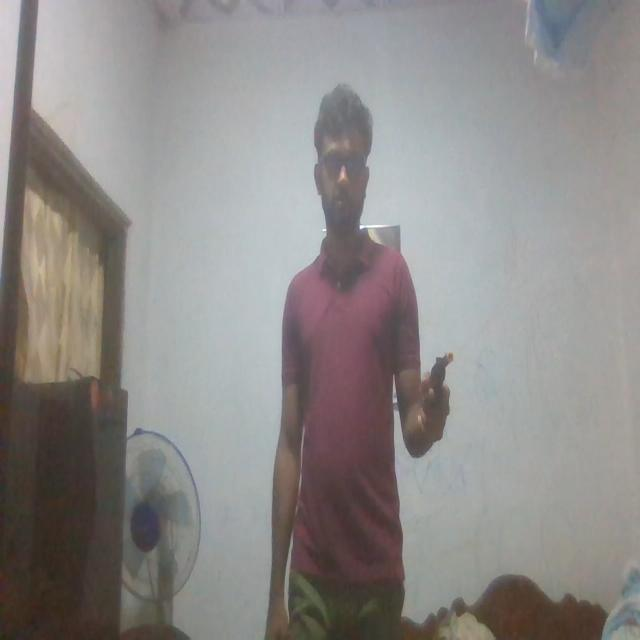Gun_Holder: (418, 348, 459, 436)
Person: (261, 87, 443, 640)
